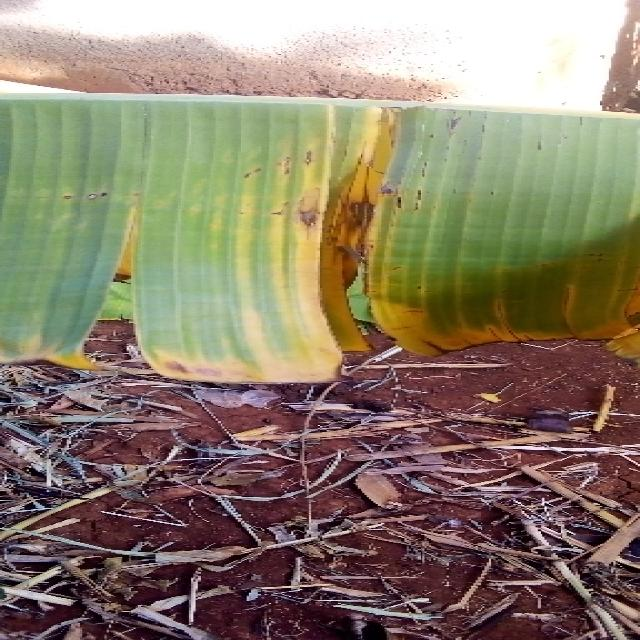Cordana: (0, 73, 640, 396)
